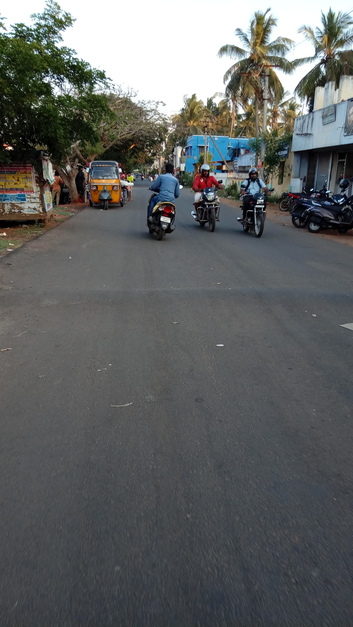bump: (1, 284, 353, 322)
